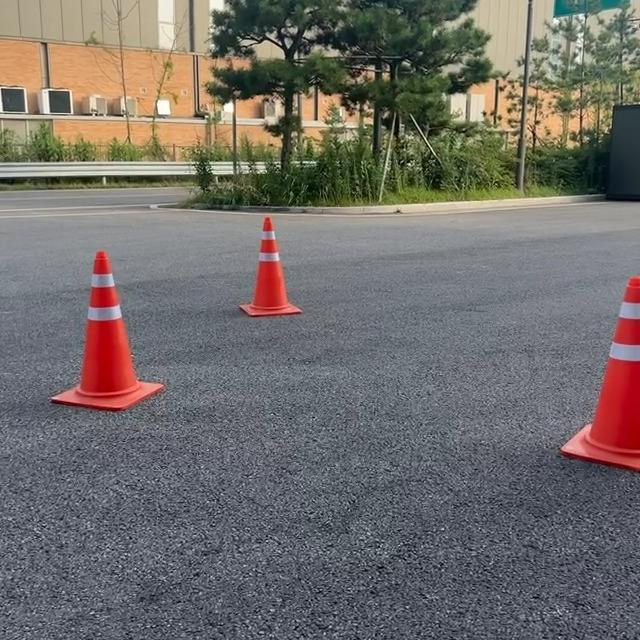fallen_object: (7, 199, 218, 460), (510, 270, 640, 485), (212, 193, 325, 353)
